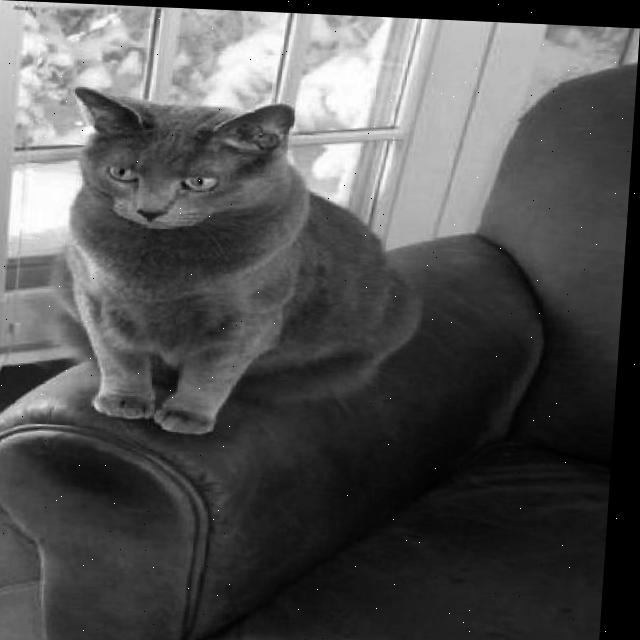Cat: (41, 83, 432, 445)
